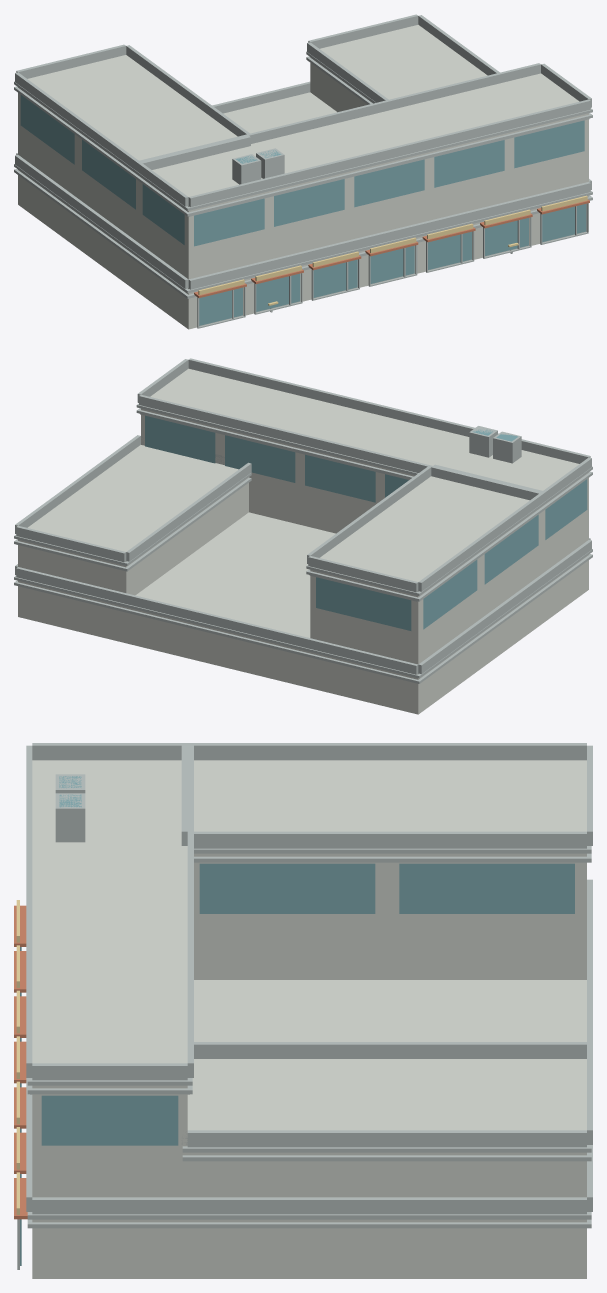
Rendered from commercial_4x3_court.glb.
3 views of the same model, one above another, from view 1: azimuth 30°, elevation 25°; view 2: azimuth 150°, elevation 25°; view 3: azimuth 270°, elevation 25° (orthographic). The views are drawn at different scales.
Visible parts, largest first — view 1: commercial_4x3_court_0; view 2: commercial_4x3_court_0; view 3: commercial_4x3_court_0.
Part boxes in pixels (x1,y1,x2,y2): commercial_4x3_court_0: [14, 14, 592, 329]; commercial_4x3_court_0: [14, 358, 592, 714]; commercial_4x3_court_0: [14, 743, 592, 1278].
Size of the model in its own units: 31 by 10.5 by 23.5.
